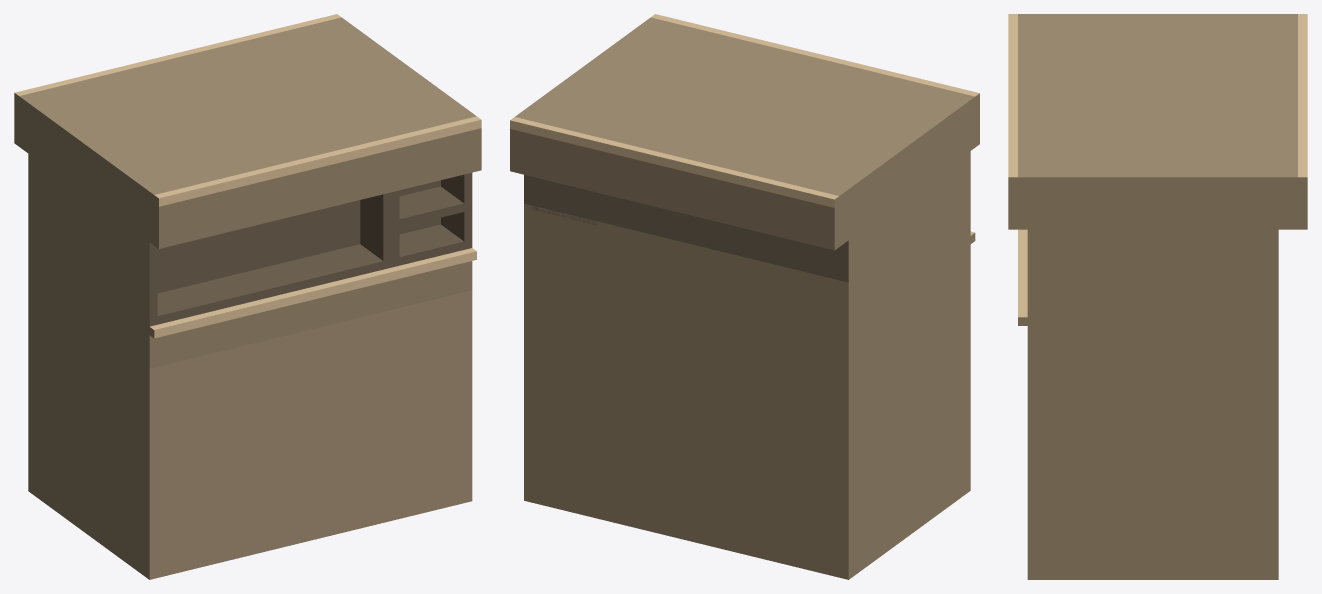
The model's file is Desk3.fbx.
3 views of the same model, side by side, from view 1: azimuth 30°, elevation 25°; view 2: azimuth 150°, elevation 25°; view 3: azimuth 270°, elevation 25° (orthographic). The views are drawn at different scales.
Visible parts, largest first — view 1: Cube.006; view 2: Cube.006; view 3: Cube.006.
Boxes of the visible parts, box(x1,y1,x2,y2) form: Cube.006: box(14, 14, 481, 579); Cube.006: box(510, 14, 979, 579); Cube.006: box(1008, 14, 1307, 579).
Bounding box in the file's own units: 400 × 460 × 310.
